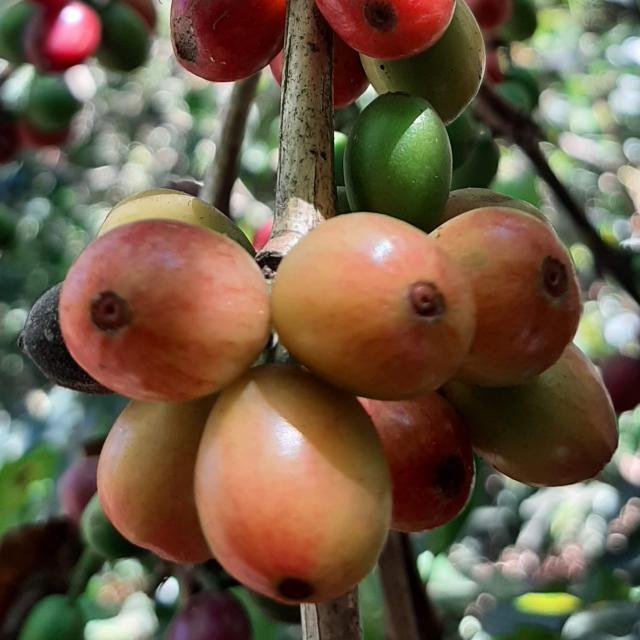green: (360, 0, 486, 124), (344, 92, 453, 231)
red: (18, 283, 112, 395), (170, 0, 286, 81), (316, 0, 457, 59)
yellow: (194, 365, 392, 605), (270, 212, 477, 400), (58, 220, 270, 402), (430, 206, 583, 387), (443, 344, 619, 487), (96, 395, 216, 564), (358, 393, 475, 533), (97, 188, 255, 256)
